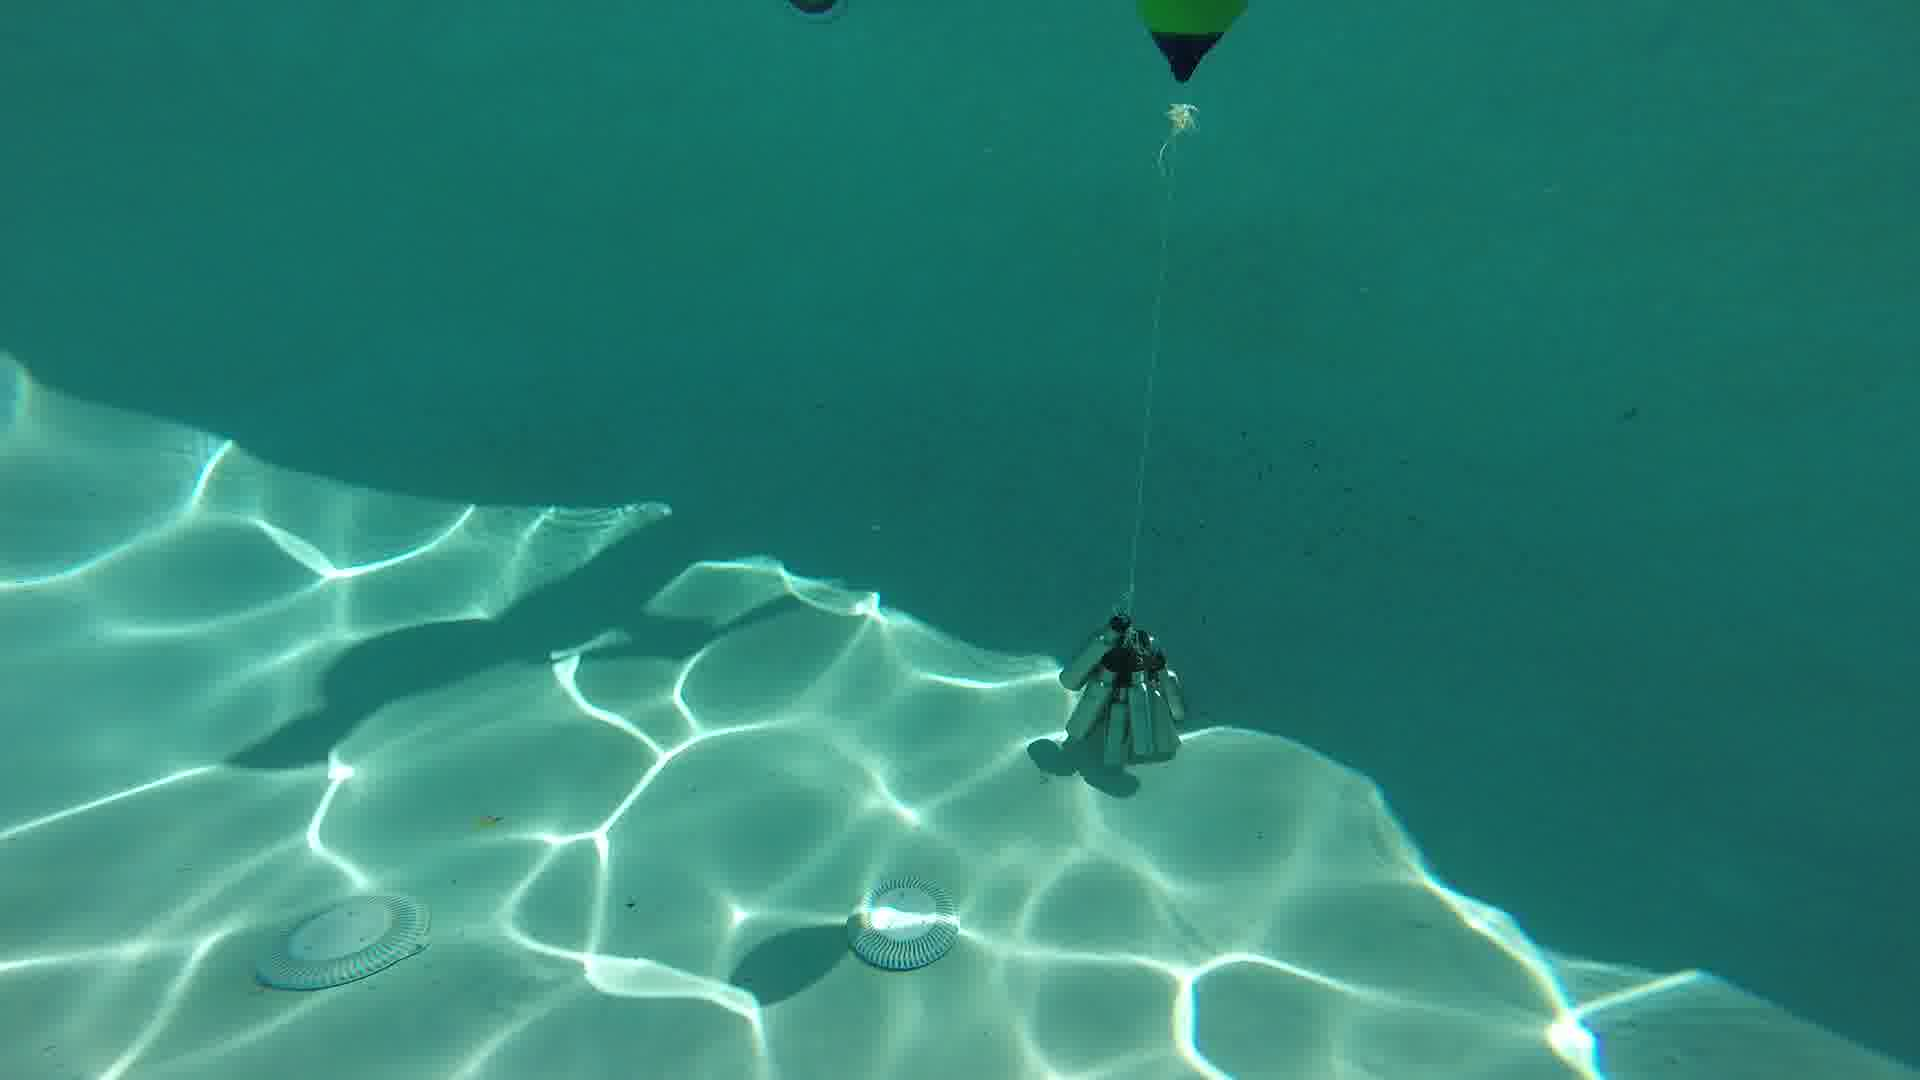yellow_buoy: (1138, 1, 1249, 136)
